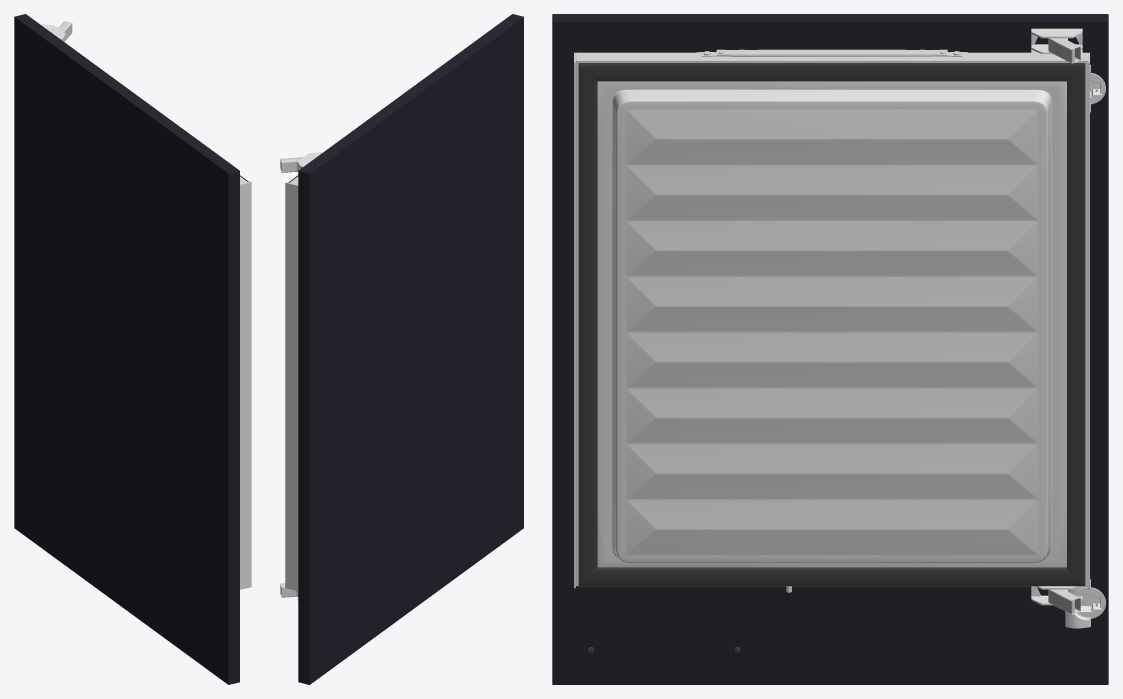
The model's file is SM_Fridge_Door_02.dae.
3 renders of one model, left to right at view 1: azimuth 30°, elevation 25°; view 2: azimuth 150°, elevation 25°; view 3: azimuth 270°, elevation 25°, orthographic. The views are drawn at different scales.
Parts seen in each view (by area): view 1: SM_Fridge_Door_02; view 2: SM_Fridge_Door_02; view 3: SM_Fridge_Door_02.
Part boxes in pixels (x1,y1,x2,y2): SM_Fridge_Door_02: [14, 14, 251, 684]; SM_Fridge_Door_02: [280, 14, 523, 684]; SM_Fridge_Door_02: [552, 14, 1108, 684].
Size of the model in its own units: 0.074 by 0.5969 by 0.7865.
4 materials, 4 textured.
